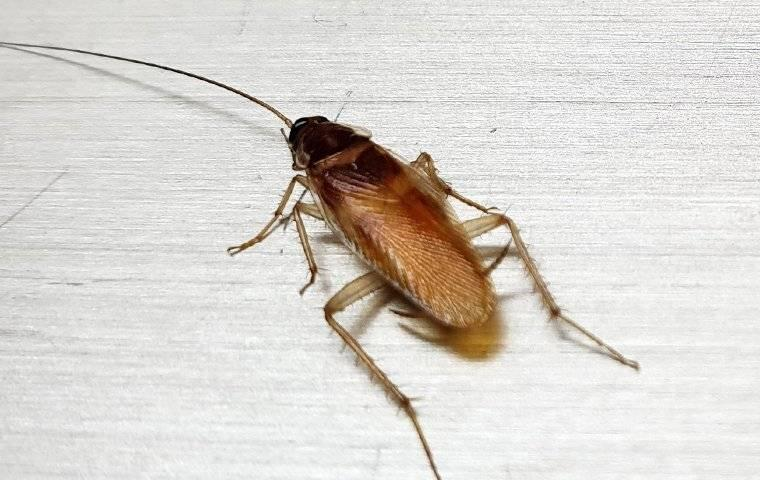cockroach: (278, 108, 512, 344)
